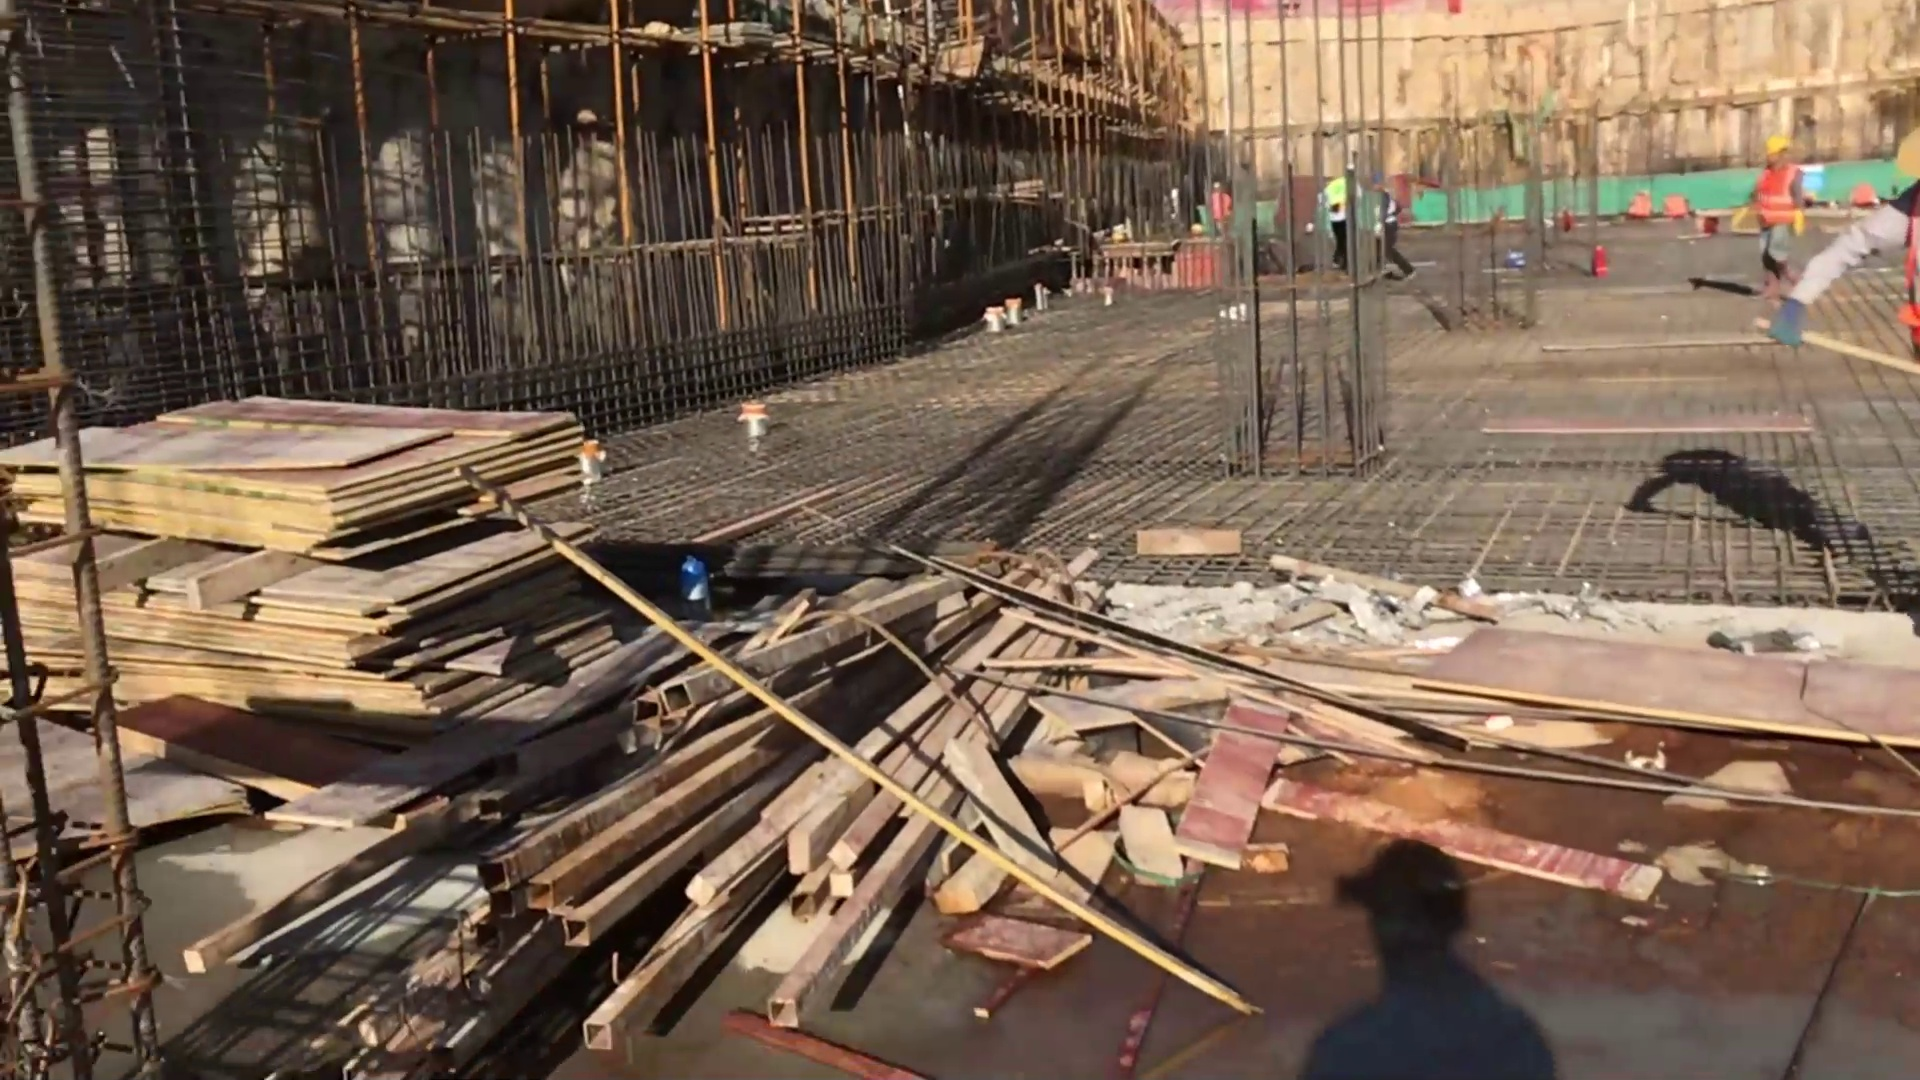board: (21, 393, 581, 756)
person: (1773, 122, 1920, 349), (1748, 130, 1813, 311), (1369, 180, 1417, 280), (1324, 163, 1360, 276)
rebar: (574, 556, 1061, 1051)
vest: (1759, 170, 1803, 231)
